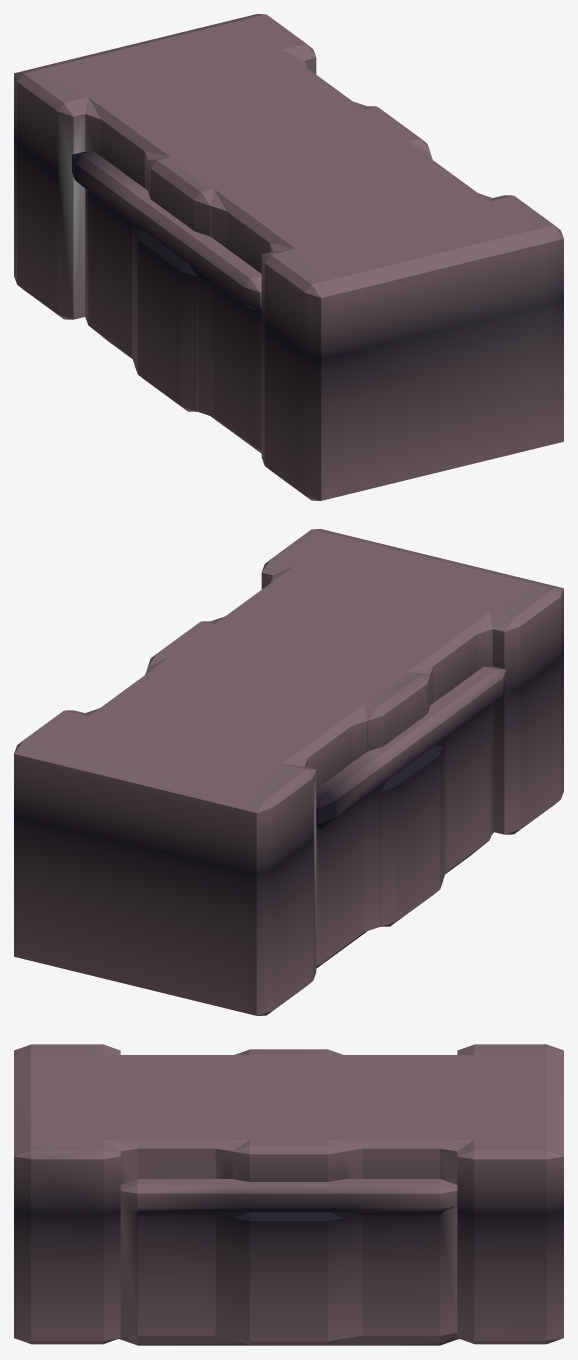
File: bridge1.fbx
3 views of the same model, one above another, from view 1: azimuth 30°, elevation 25°; view 2: azimuth 150°, elevation 25°; view 3: azimuth 270°, elevation 25° (orthographic). The views are drawn at different scales.
Parts seen in each view (by area): view 1: bridge1; view 2: bridge1; view 3: bridge1.
Part boxes in pixels (<box>): bridge1: <box>14,14,563,500</box>; bridge1: <box>14,529,563,1015</box>; bridge1: <box>14,1044,563,1345</box>.
Size of the model in its own units: 87.9 by 74.53 by 181.
